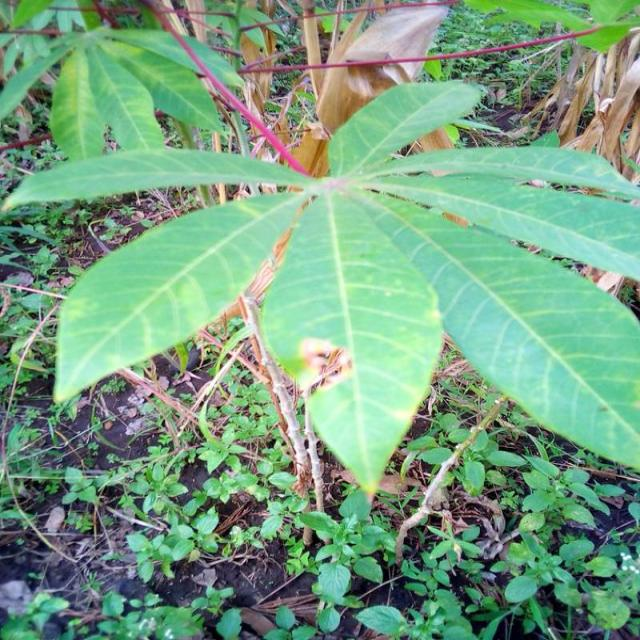cassava leaf: (45, 76, 639, 511), (357, 183, 640, 472), (259, 182, 444, 506), (52, 188, 310, 405)
